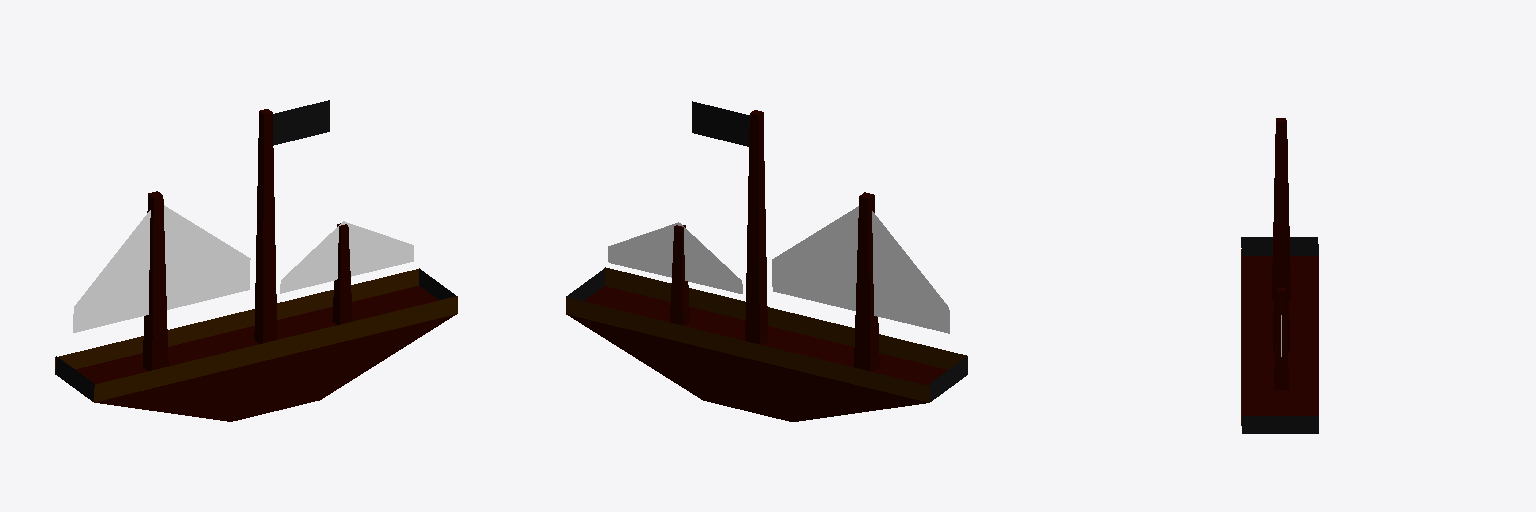
File: warship1.obj
3 views of the same model, side by side, from view 1: azimuth 30°, elevation 25°; view 2: azimuth 150°, elevation 25°; view 3: azimuth 270°, elevation 25° (orthographic).
Visible parts, largest first — view 1: Cube, Plane.001, Cube.003, Plane, Cube.002, Plane.002, Cube.001; view 2: Cube, Plane.001, Cube.003, Plane, Cube.002, Plane.002, Cube.001; view 3: Cube, Cube.003, Cube.001.
Part boxes in pixels (x1,y1,x2,y2): Cube: (55, 268, 457, 421); Plane.001: (73, 205, 250, 332); Cube.003: (254, 109, 276, 343); Plane: (280, 221, 413, 293); Cube.002: (143, 191, 168, 370); Plane.002: (273, 100, 329, 145); Cube.001: (332, 223, 352, 324); Cube: (566, 267, 967, 421); Plane.001: (772, 206, 949, 333); Cube.003: (745, 110, 767, 344); Plane: (608, 222, 742, 293); Cube.002: (854, 192, 879, 371); Plane.002: (692, 101, 749, 146); Cube.001: (670, 225, 689, 325); Cube: (1241, 237, 1318, 433); Cube.003: (1273, 118, 1289, 352); Cube.001: (1274, 288, 1288, 389).
Size of the model in its own units: 14.46 by 10.68 by 2.68.